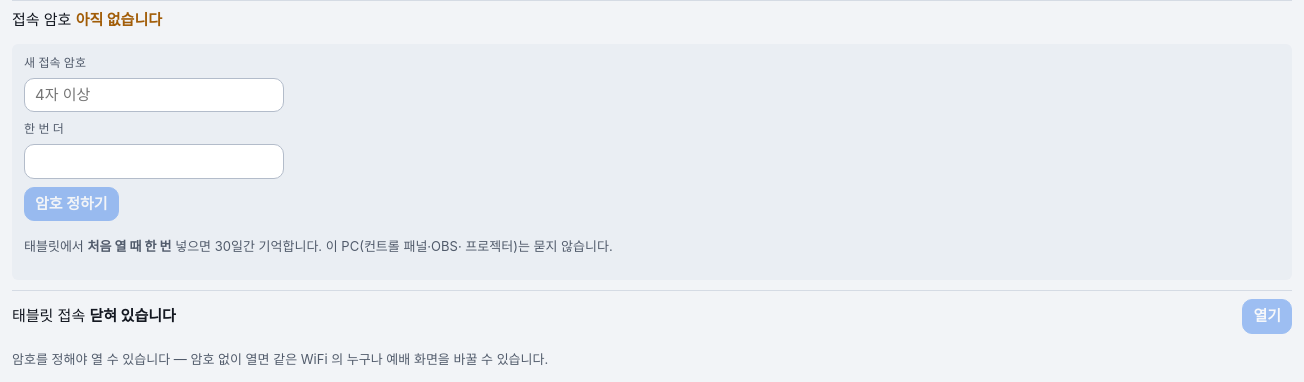
Test: 암호 정하기 › 맞게 넣으면 서버에 그 값을 보내고, 바뀐 것을 알린다
The width and height of the screenshot is (1304, 382).
Type "암호1234" into the password field labelled "새 접속 암호". click: coordinates (154, 95)
box: x1=24 y1=78 x2=284 y2=112
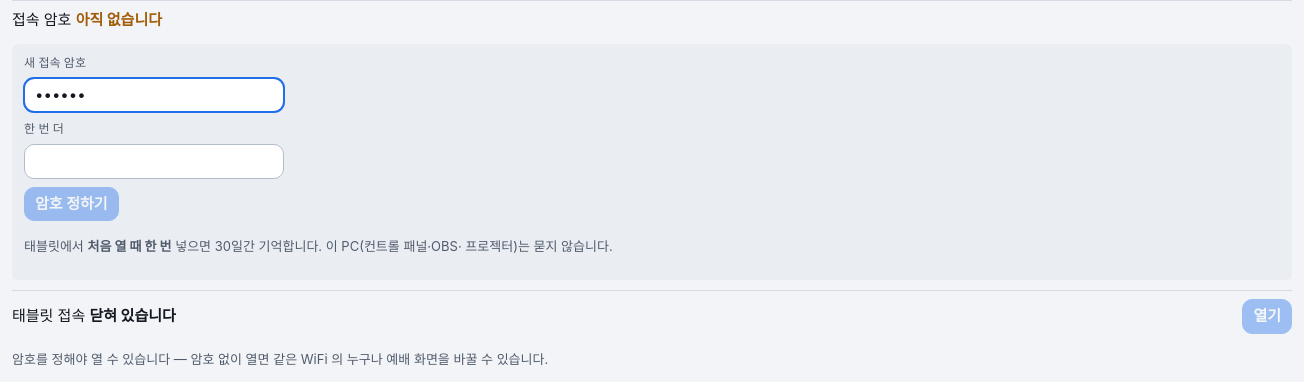
Type "암호1234" into the password field labelled "한 번 더". click: coordinates (154, 161)
box: x1=24 y1=144 x2=284 y2=178
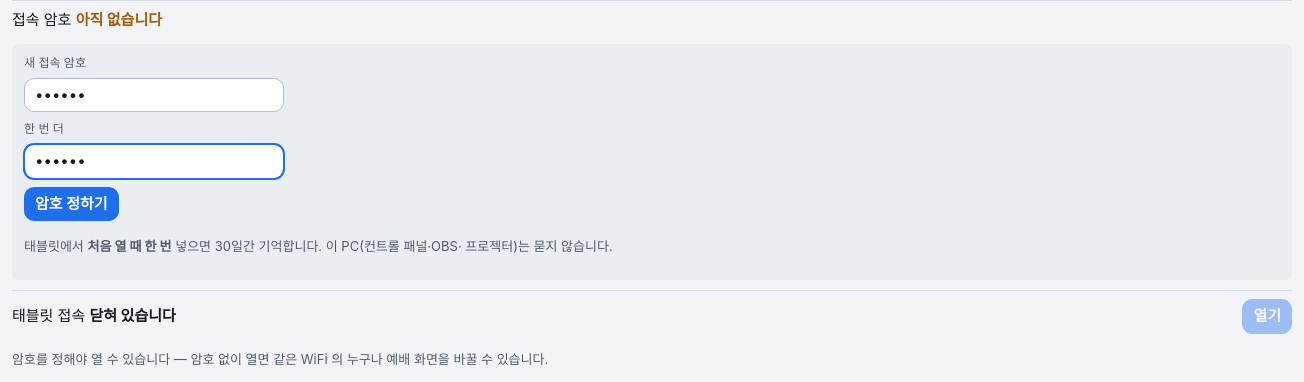
Click the button "암호 정하기". click: coordinates (71, 204)
box: x1=24 y1=186 x2=119 y2=221
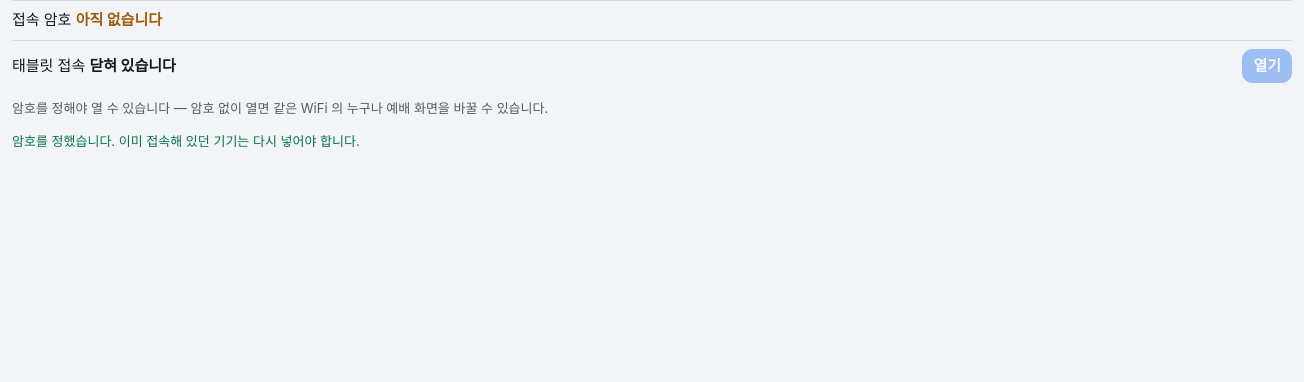
expect the text "암호를 정했습니다. 이미 접속해 있던 기기는 다시 넣어야 합니다." is shown: met, box x1=12 y1=133 x2=360 y2=149
